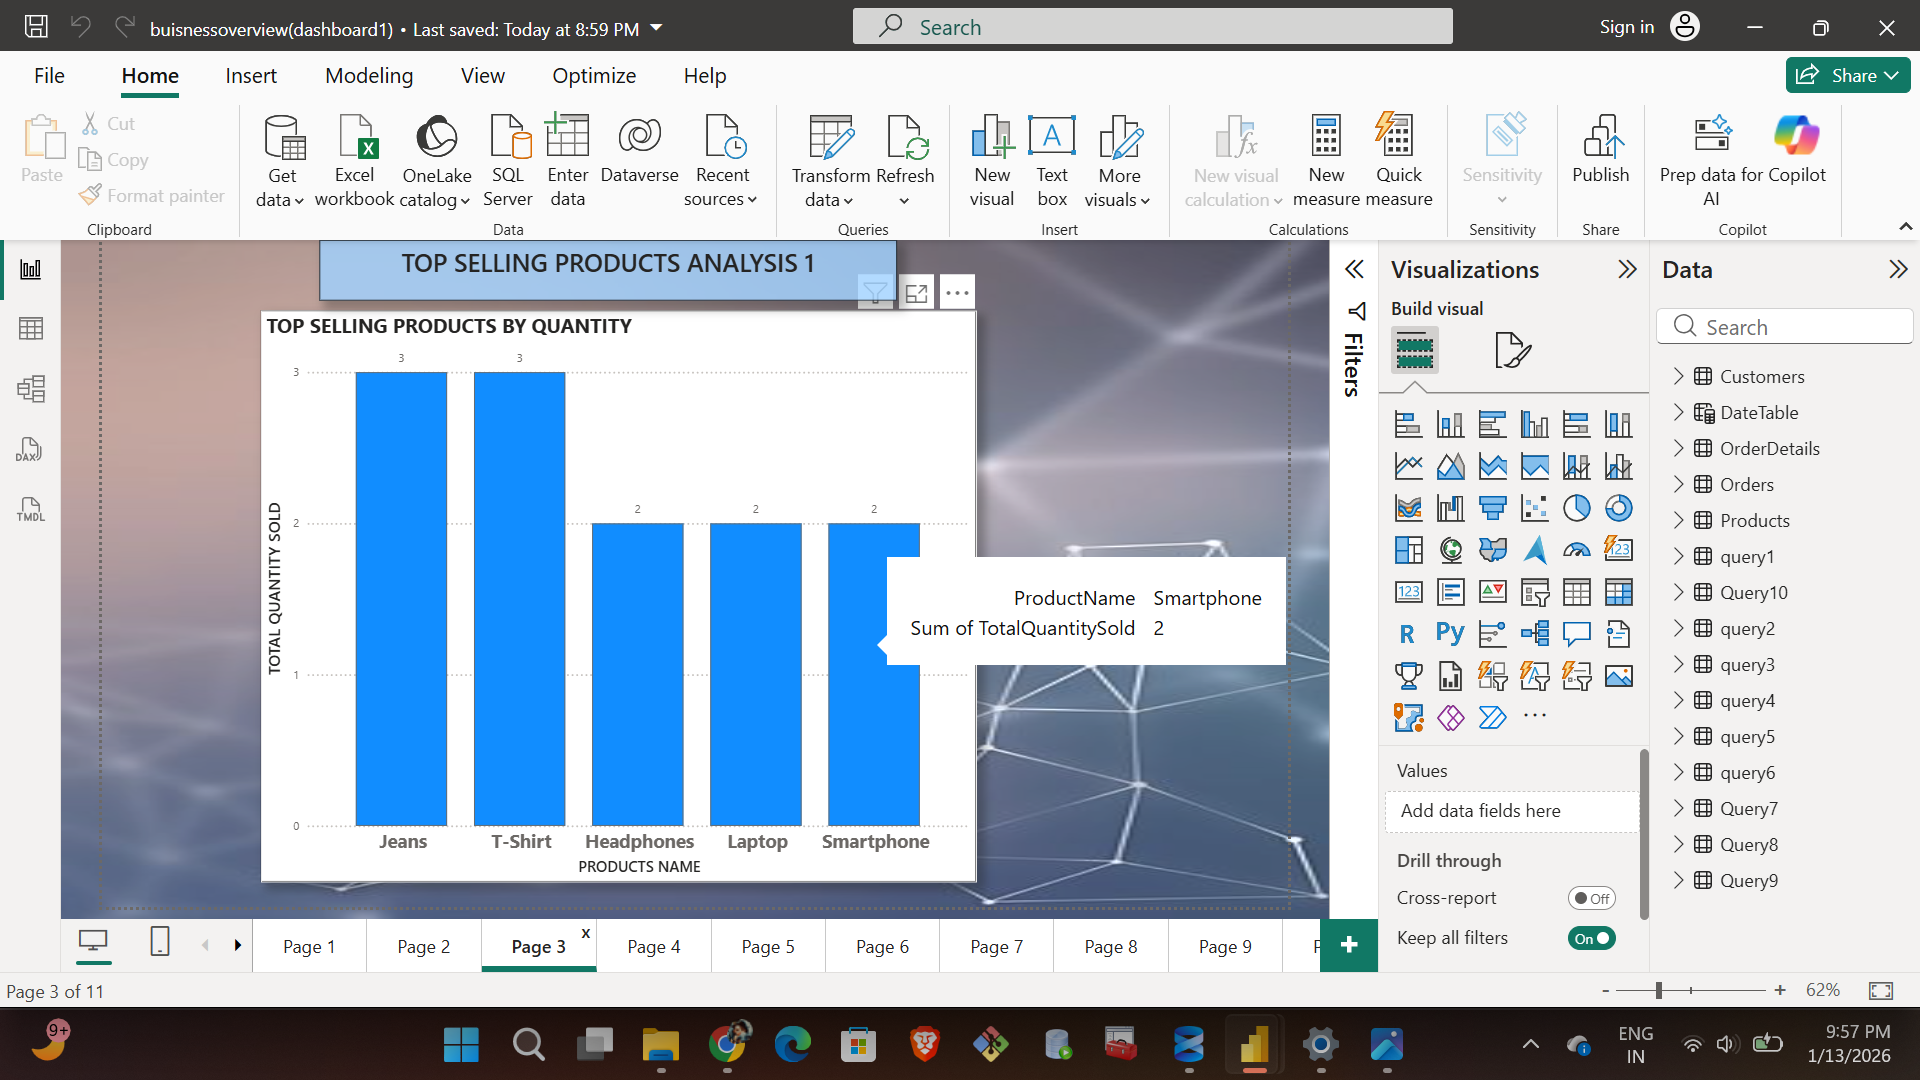

The page's visual inventory and layout, read from the dashboard file:
{"tool":"powerbi","page":{"name":"Page 3","canvas":[1280,720],"ordinal":2},"visuals":[{"type":"lineClusteredColumnComboChart","title":"TOP SELLING PRODUCTS BY QUANTITY","fields":{"Category":["query2.ProductName"],"Y":["Sum(query2.TotalQuantitySold)"]},"box":[171.7,76.7,771.7,616.7],"z":0},{"type":"textbox","box":[235,0,623.3,65],"z":1}]}

Visuals, with their boxes on the page's 1280x720 design canvas (x1, y1, x2, y2). These are canvas units, not pixel positions in the 1920x1080 screenshot, which may show the page scaled, cropped or inside an application window:
"TOP SELLING PRODUCTS BY QUANTITY" lineClusteredColumnComboChart: 172,77,943,693
textbox: 235,0,858,65
